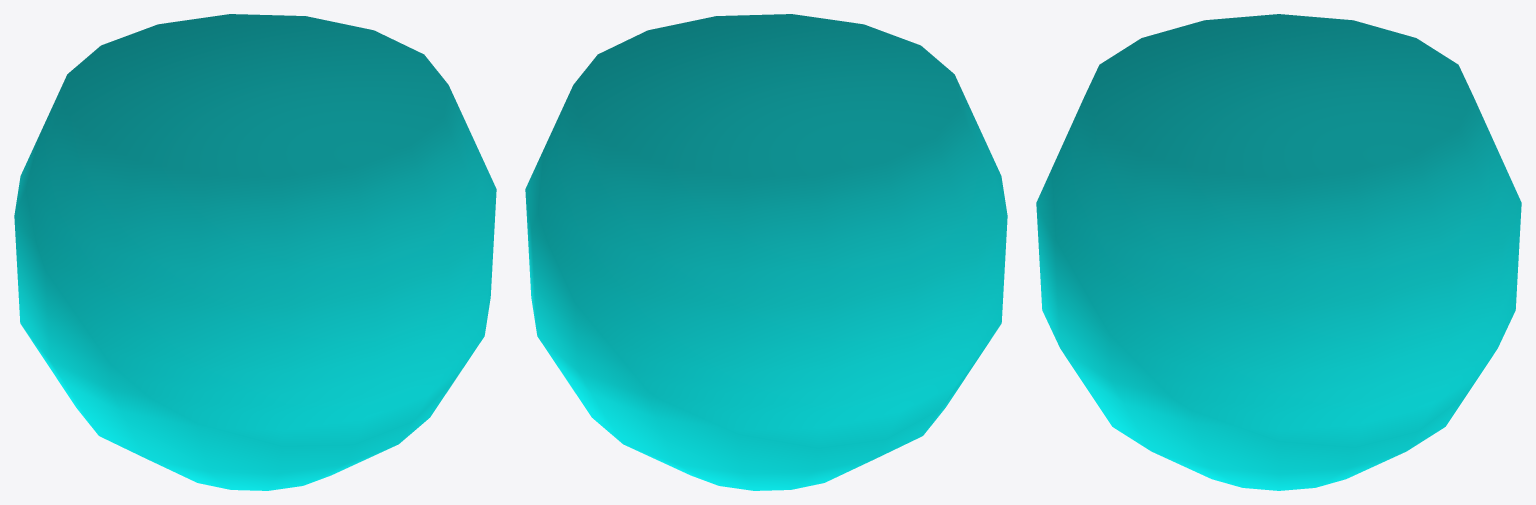
Rendered from WaterDrop_55.glb.
3 renders of one model, left to right at view 1: azimuth 30°, elevation 25°; view 2: azimuth 150°, elevation 25°; view 3: azimuth 270°, elevation 25°, orthographic.
Parts seen in each view (by area): view 1: WaterDrop_55; view 2: WaterDrop_55; view 3: WaterDrop_55.
Part boxes in pixels (<box>): WaterDrop_55: <box>14,14,496,490</box>; WaterDrop_55: <box>525,14,1007,490</box>; WaterDrop_55: <box>1036,14,1521,490</box>.
Bounding box in the file's own units: 0.5885 × 0.4894 × 0.5885.
Materials: 1 (1 with a texture image).
